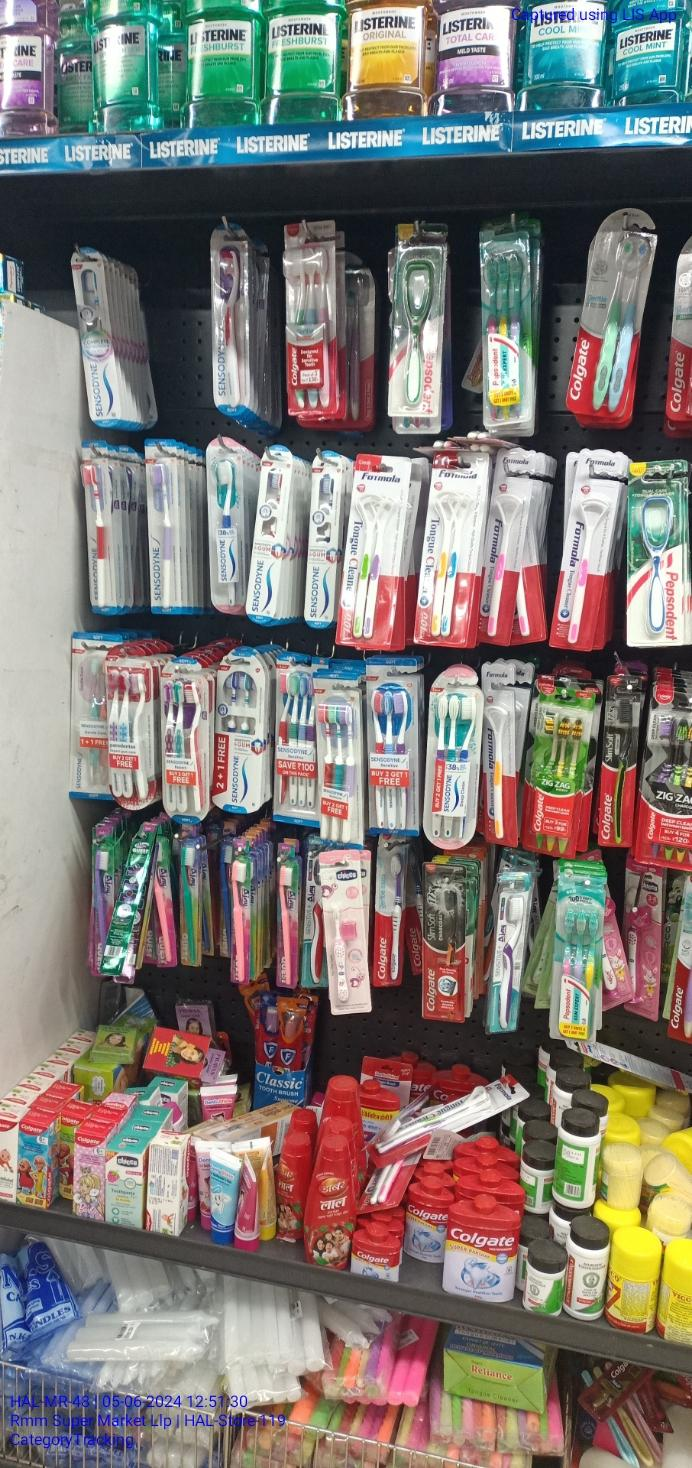11: (471, 228, 537, 432), (549, 875, 597, 1044)
14: (274, 653, 316, 828)
15: (370, 658, 418, 836)
16: (212, 652, 265, 816)
5: (422, 669, 476, 849)
6: (161, 657, 206, 825)
7: (68, 631, 110, 799)
8: (320, 676, 366, 846)
soap: (414, 862, 467, 1023), (601, 673, 639, 852)
